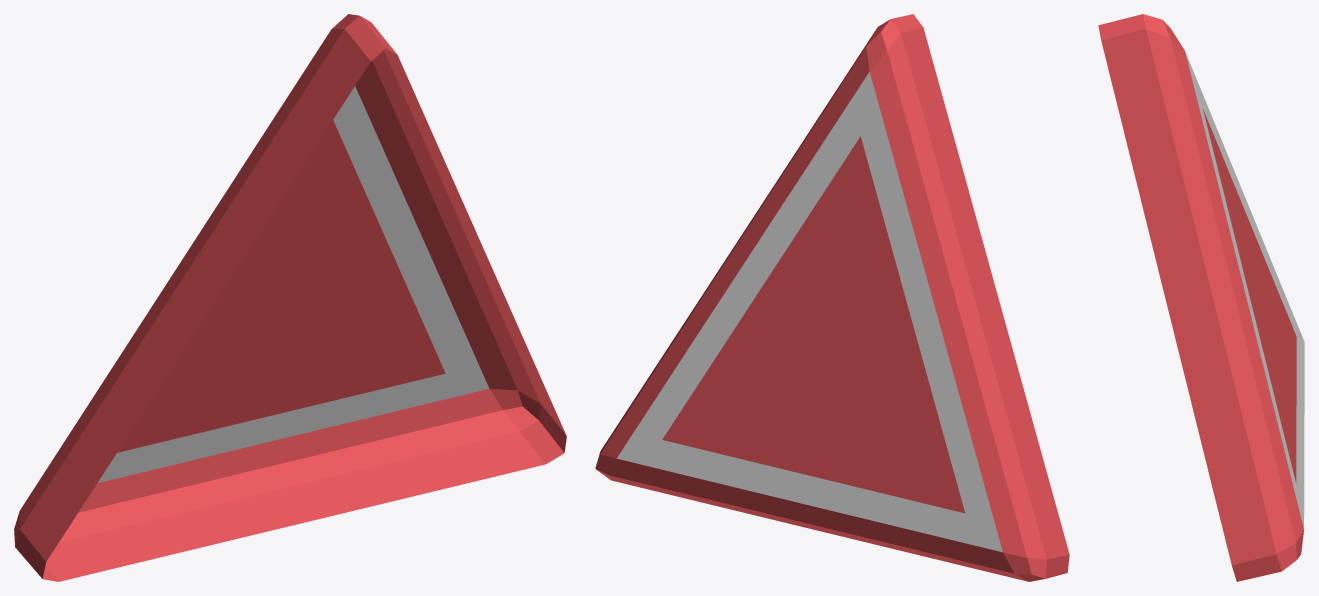
The model's file is HazardButton.fbx.
3 views of the same model, side by side, from view 1: azimuth 30°, elevation 25°; view 2: azimuth 150°, elevation 25°; view 3: azimuth 270°, elevation 25° (orthographic). The views are drawn at different scales.
Visible parts, largest first — view 1: Hazard_Button; view 2: Hazard_Button; view 3: Hazard_Button.
Part boxes in pixels (x1=…): Hazard_Button: x1=14, y1=14, x2=566, y2=581; Hazard_Button: x1=595, y1=14, x2=1069, y2=581; Hazard_Button: x1=1098, y1=14, x2=1304, y2=581.
Bounding box in the file's own units: 5.37 × 5.39 × 2.16.
